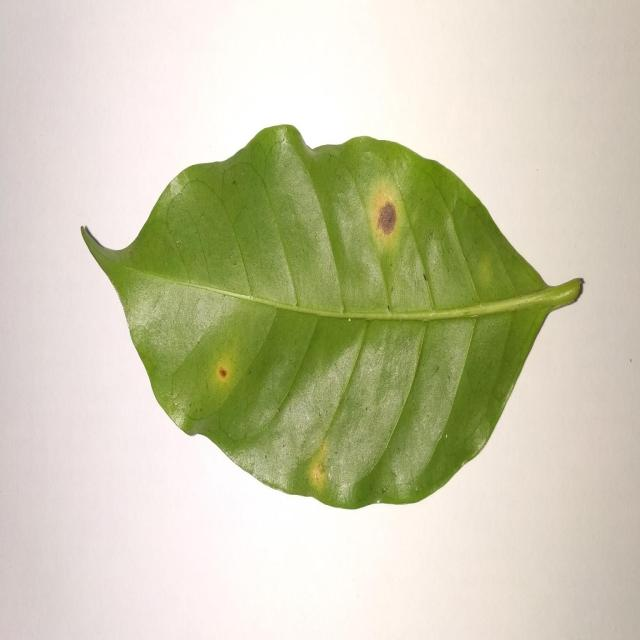Enfermedad-Mancha-de-hierro: (79, 124, 585, 513)
